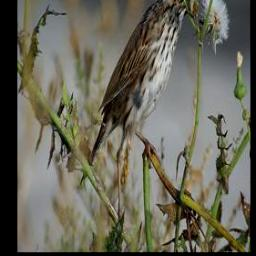Sparrow: (79, 0, 210, 186)
